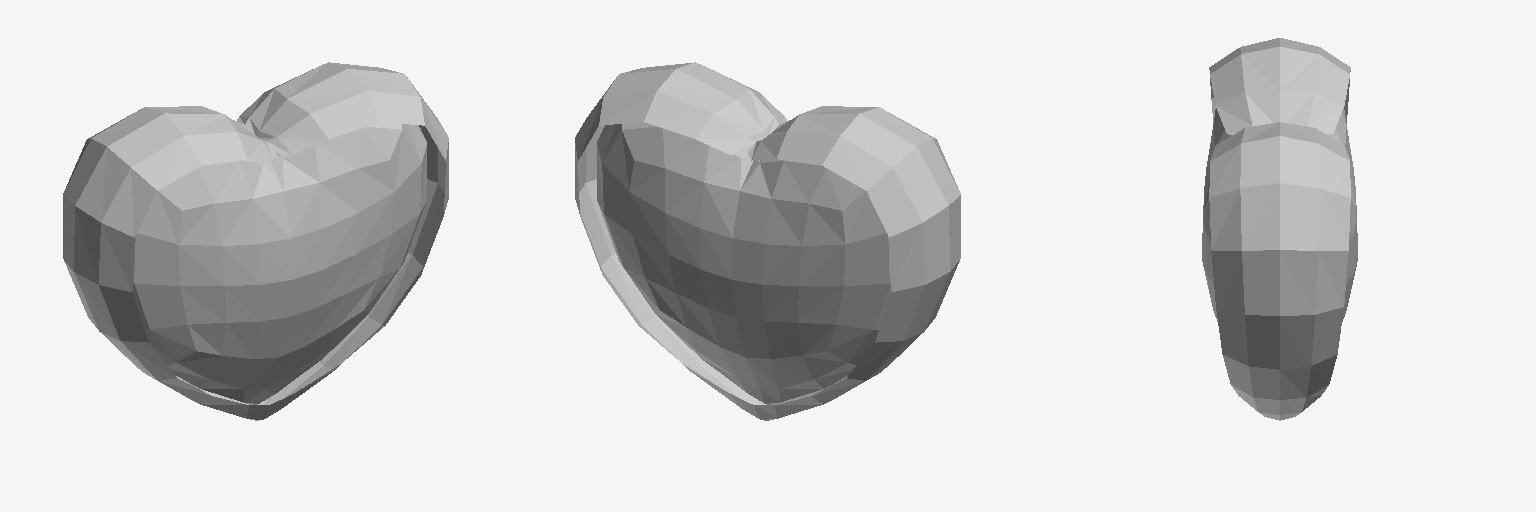
The model's file is heart002.obj.
The picture shows the model from 3 angles: view 1: azimuth 30°, elevation 25°; view 2: azimuth 150°, elevation 25°; view 3: azimuth 270°, elevation 25°; orthographic projection.
Visible parts, largest first — view 1: initialShadingGroup polySurface3; view 2: initialShadingGroup polySurface3; view 3: initialShadingGroup polySurface3.
Boxes of the visible parts, box(x1,y1,x2,y2) form: initialShadingGroup polySurface3: box(63, 62, 448, 420); initialShadingGroup polySurface3: box(575, 62, 960, 420); initialShadingGroup polySurface3: box(1202, 38, 1357, 420).
Bounding box in the file's own units: 18.26 × 15.79 × 6.76.